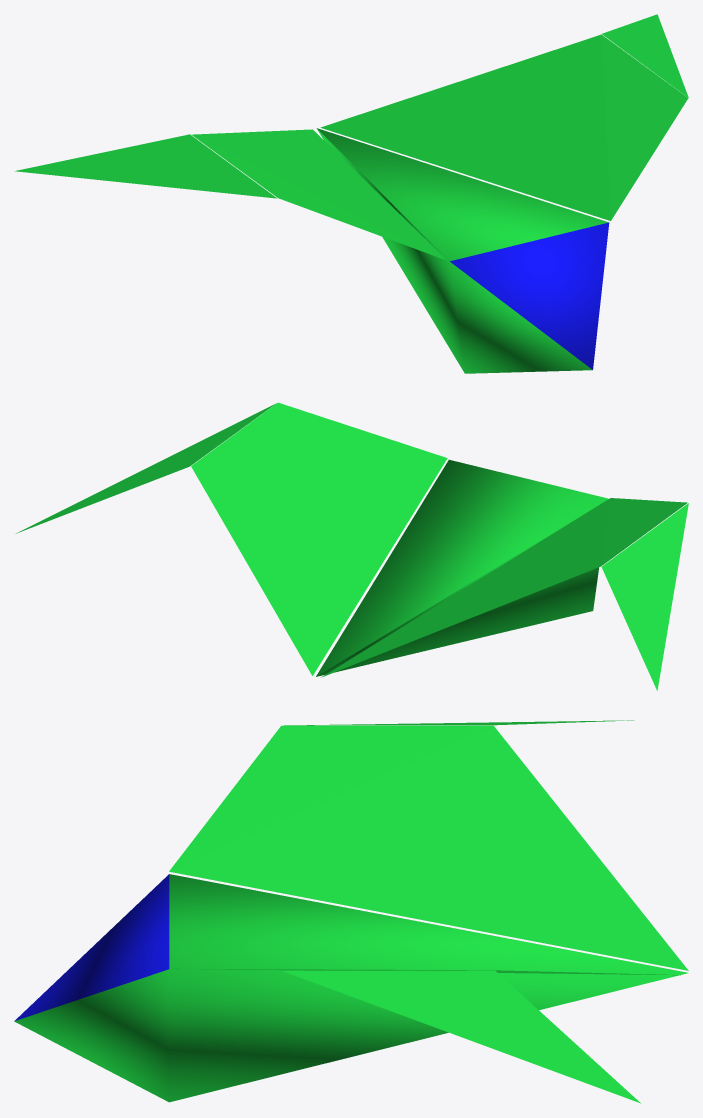
File: glider.obj
The picture shows the model from 3 angles, top to bottom: view 1: azimuth 30°, elevation 25°; view 2: azimuth 150°, elevation 25°; view 3: azimuth 270°, elevation 25°; orthographic projection. The views are drawn at different scales.
Parts seen in each view (by area): view 1: cube1_Green, cube1_Blue; view 2: cube1_Green; view 3: cube1_Green, cube1_Blue.
Part boxes in pixels (left/top/right/bottom): cube1_Green: left=14, top=14, right=688, bottom=373; cube1_Blue: left=450, top=222, right=609, bottom=369; cube1_Green: left=16, top=402, right=688, bottom=690; cube1_Green: left=14, top=720, right=688, bottom=1103; cube1_Blue: left=15, top=874, right=169, bottom=1020.
Size of the model in its own units: 8.06 by 2.11 by 5.99.
